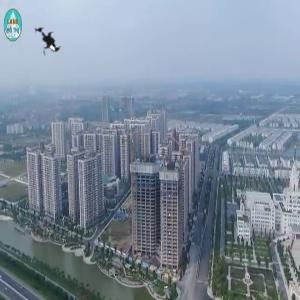drone: (21, 17, 72, 68)
